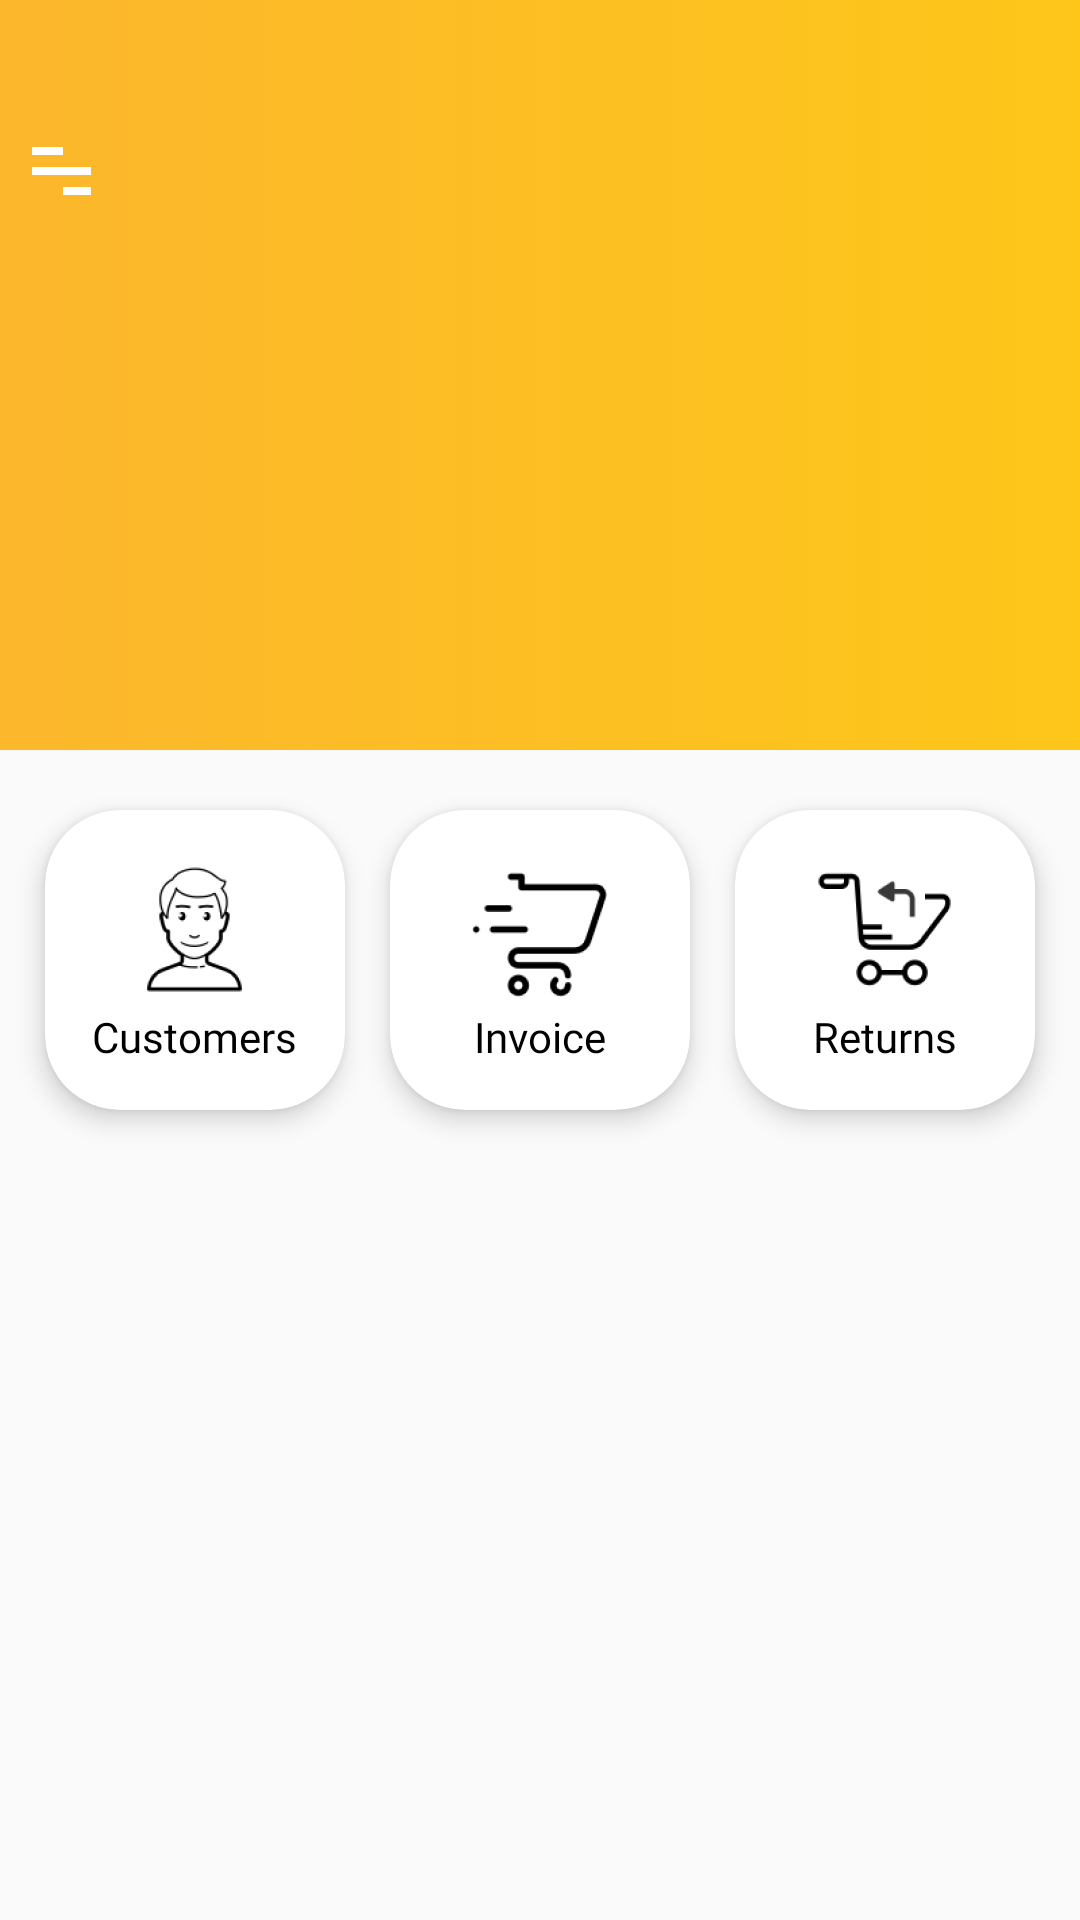

Screen size 1080 x 1920. Icon name, then its center in pixels as point (x, y):
menu: point (61, 171)
